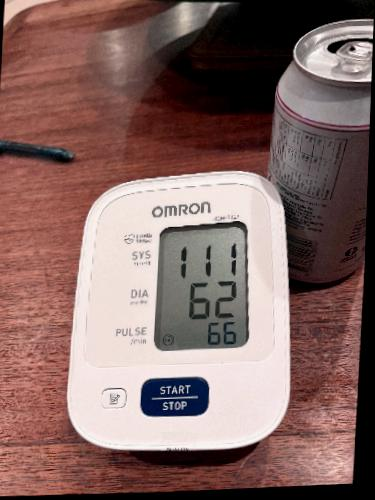bpm: (151, 217, 252, 353)
